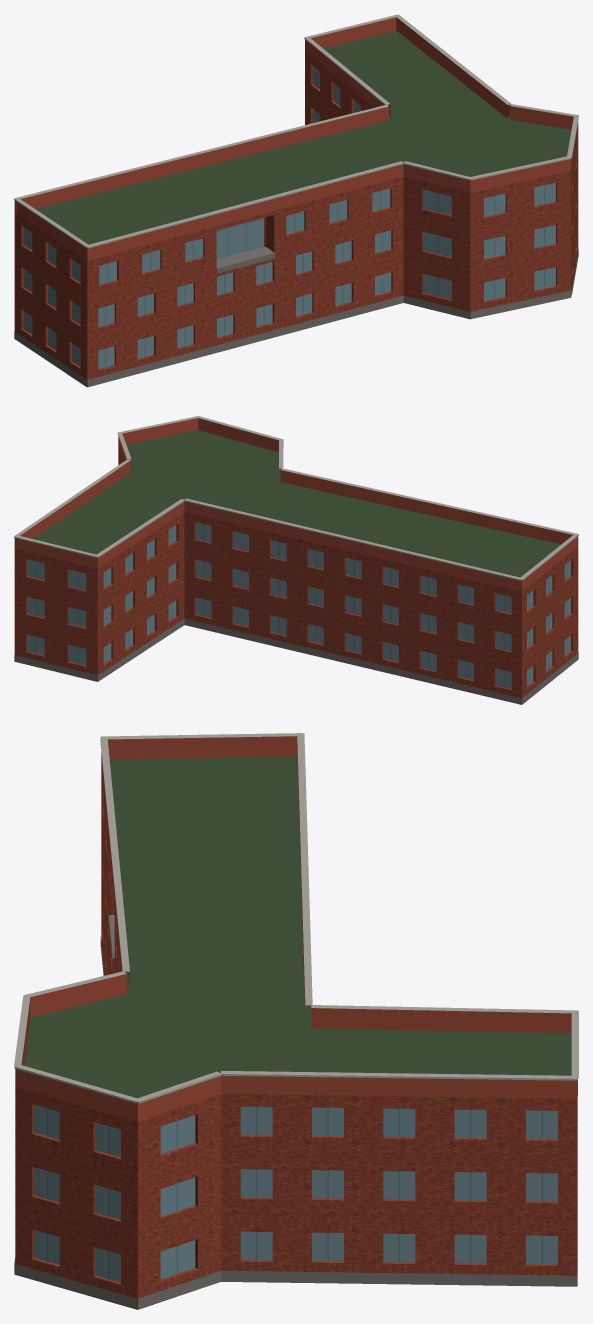
3 views of the same model, one above another, from view 1: azimuth 30°, elevation 25°; view 2: azimuth 150°, elevation 25°; view 3: azimuth 270°, elevation 25° (orthographic). The views are drawn at different scales.
Visible parts, largest first — view 1: infoQ__wall, infoQ__roof, infoQ__parapet, infoQ__glass, infoQ__trim, infoQ__base, infoQ__frame; view 2: infoQ__wall, infoQ__roof, infoQ__parapet, infoQ__glass, infoQ__trim, infoQ__base, infoQ__frame; view 3: infoQ__wall, infoQ__roof, infoQ__parapet, infoQ__glass, infoQ__trim, infoQ__base, infoQ__frame.
Boxes of the visible parts, box(x1,y1,x2,y2) form: infoQ__wall: box(14, 51, 578, 386); infoQ__roof: box(35, 31, 571, 244); infoQ__parapet: box(14, 17, 578, 260); infoQ__glass: box(23, 66, 555, 369); infoQ__trim: box(14, 14, 578, 248); infoQ__base: box(14, 246, 578, 387); infoQ__frame: box(28, 69, 545, 367); infoQ__wall: box(14, 445, 578, 704); infoQ__roof: box(33, 430, 560, 681); infoQ__parapet: box(14, 418, 578, 591); infoQ__glass: box(27, 522, 570, 688); infoQ__trim: box(14, 416, 578, 580); infoQ__base: box(14, 618, 578, 704); infoQ__frame: box(36, 524, 567, 687); infoQ__wall: box(15, 758, 577, 1309); infoQ__roof: box(24, 756, 571, 1309); infoQ__parapet: box(15, 736, 577, 1121); infoQ__glass: box(34, 1104, 557, 1282); infoQ__trim: box(14, 733, 578, 1103); infoQ__base: box(14, 915, 577, 1309); infoQ__frame: box(47, 1106, 542, 1279).
Bounding box in the file's own units: 42.97 × 11.32 × 27.81.
Materials: 8 (1 with a texture image).
